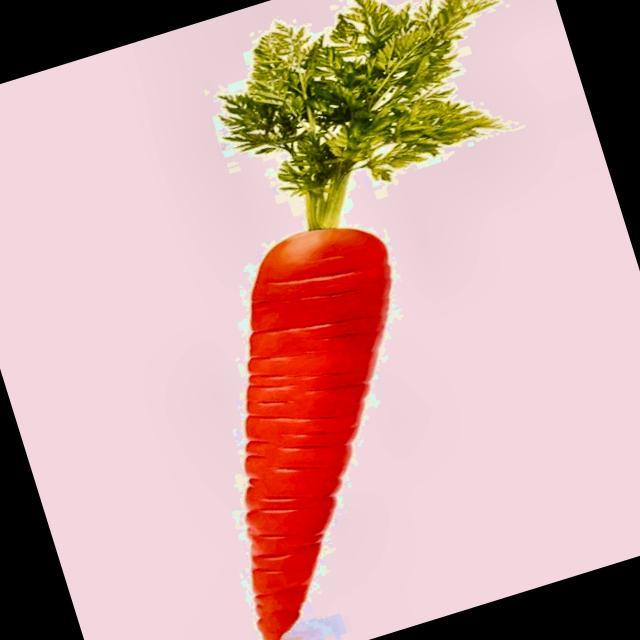carrot: (219, 0, 505, 640)
